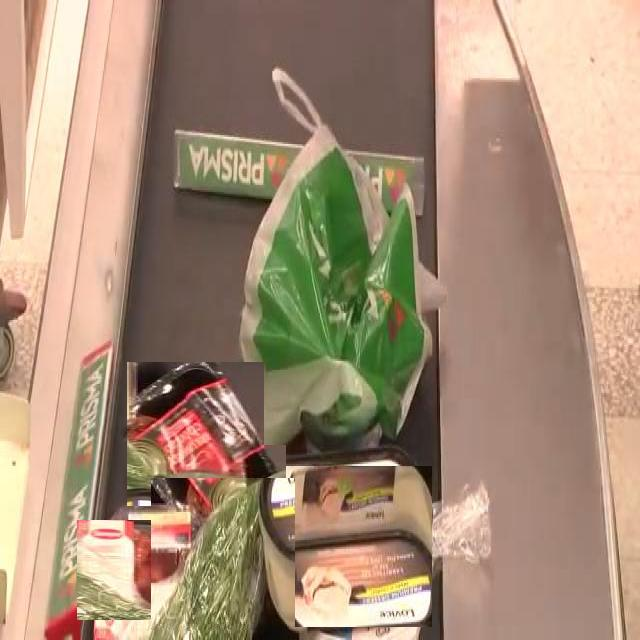food-box: (130, 358, 282, 511), (152, 478, 296, 630)
utility-box: (264, 183, 444, 445), (270, 465, 432, 627)
vegetable: (86, 511, 206, 630)
